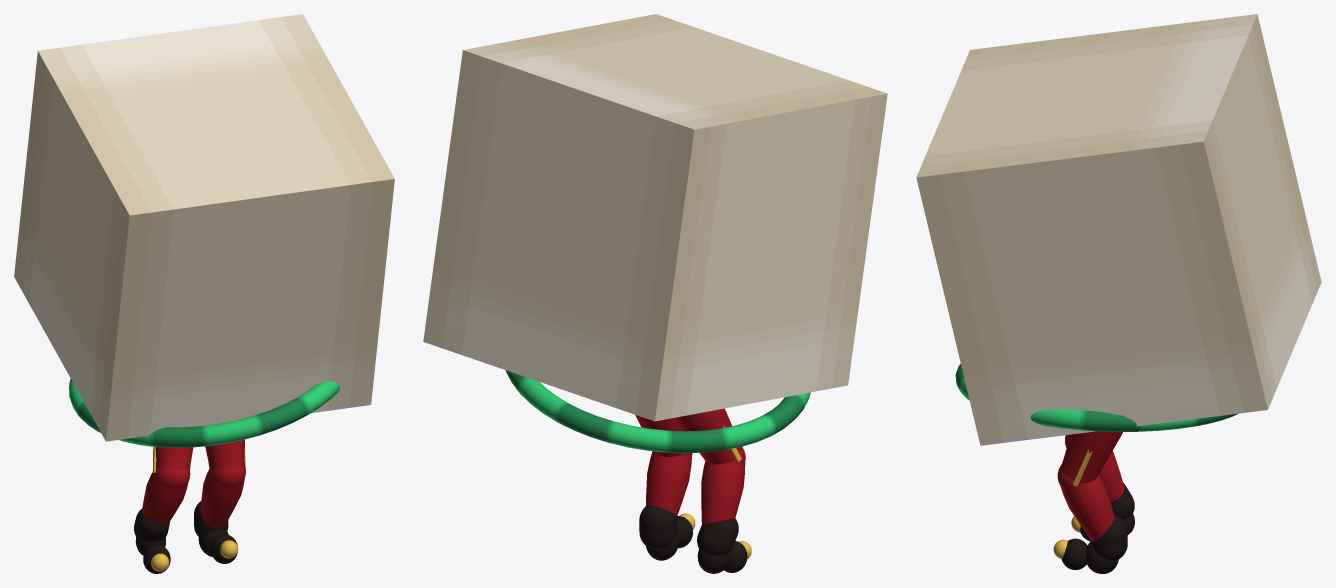
Rendered from character.glb.
The picture shows the model from 3 angles, left to right: view 1: azimuth 30°, elevation 25°; view 2: azimuth 150°, elevation 25°; view 3: azimuth 270°, elevation 25°; orthographic projection. The views are drawn at different scales.
Visible parts, largest first — view 1: jaw, root_1, shin_r, shin_l, thigh_r, thigh_l, ankle_l, toe_r, toe_l, knee_l, knee_r; view 2: jaw, root_1, shin_l, shin_r, thigh_l, ankle_r, ankle_l, foot_l; view 3: jaw, root_1, thigh_r, shin_r, ankle_r, toe_r, shin_l, foot_r, ankle_l.
Boxes of the visible parts, x1=… form: jaw: x1=14, y1=14, x2=394, y2=441; root_1: x1=69, y1=379, x2=339, y2=447; shin_r: x1=200, y1=469, x2=244, y2=527; shin_l: x1=142, y1=472, x2=188, y2=524; thigh_r: x1=205, y1=439, x2=246, y2=469; thigh_l: x1=152, y1=447, x2=193, y2=472; ankle_l: x1=134, y1=508, x2=169, y2=542; toe_r: x1=210, y1=534, x2=238, y2=563; toe_l: x1=143, y1=545, x2=170, y2=573; knee_l: x1=154, y1=468, x2=190, y2=488; knee_r: x1=209, y1=466, x2=245, y2=486; jaw: x1=423, y1=14, x2=887, y2=421; root_1: x1=505, y1=370, x2=810, y2=453; shin_l: x1=701, y1=461, x2=745, y2=524; shin_r: x1=646, y1=451, x2=691, y2=518; thigh_l: x1=673, y1=408, x2=741, y2=464; ankle_r: x1=639, y1=505, x2=676, y2=549; ankle_l: x1=697, y1=518, x2=738, y2=555; foot_l: x1=697, y1=549, x2=732, y2=573; jaw: x1=916, y1=14, x2=1321, y2=445; root_1: x1=955, y1=364, x2=1238, y2=431; thigh_r: x1=1061, y1=431, x2=1122, y2=486; shin_r: x1=1060, y1=475, x2=1114, y2=541; ankle_r: x1=1091, y1=515, x2=1127, y2=560; toe_r: x1=1053, y1=538, x2=1087, y2=569; shin_l: x1=1098, y1=451, x2=1124, y2=501; foot_r: x1=1086, y1=541, x2=1118, y2=573; ankle_l: x1=1110, y1=483, x2=1134, y2=519.
Size of the model in its own units: 1.45 by 2.28 by 1.66.
33 materials, 4 textured.
